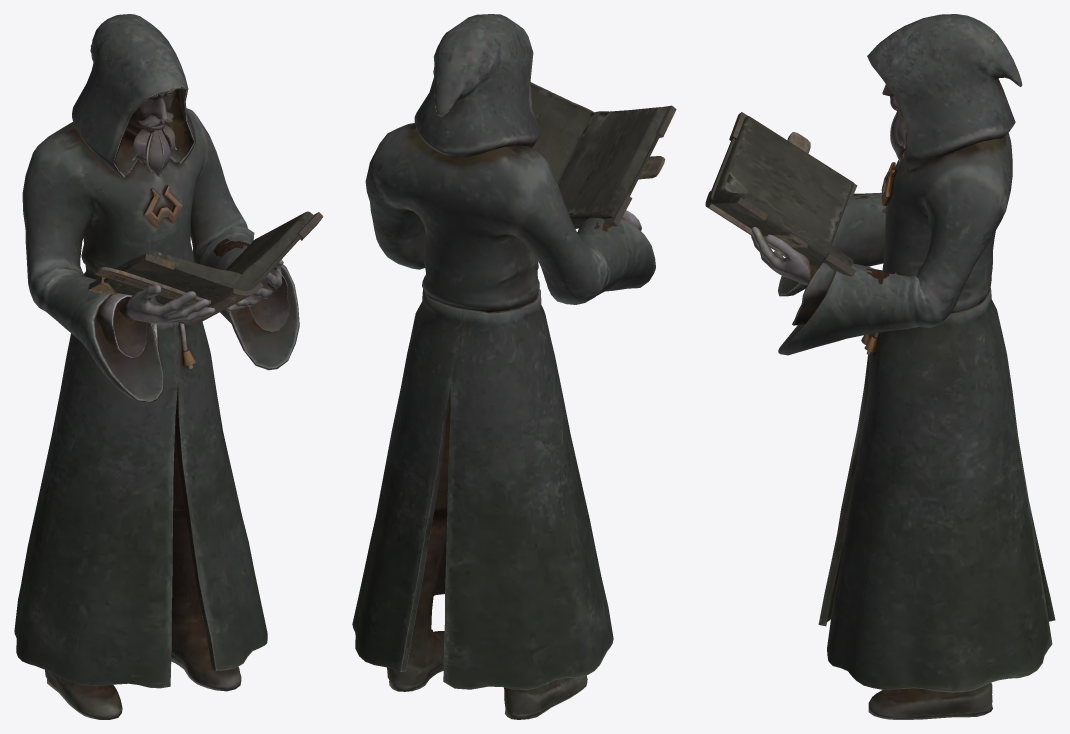
3 renders of one model, left to right at view 1: azimuth 30°, elevation 25°; view 2: azimuth 150°, elevation 25°; view 3: azimuth 270°, elevation 25°, orthographic. The views are drawn at different scales.
Visible parts, largest first — view 1: SM_DR_Statue_ZamorakAcolyte_A_01_LOD0; view 2: SM_DR_Statue_ZamorakAcolyte_A_01_LOD0; view 3: SM_DR_Statue_ZamorakAcolyte_A_01_LOD0.
Boxes of the visible parts, x1,y1,x2,y2 form: SM_DR_Statue_ZamorakAcolyte_A_01_LOD0: (14, 14, 323, 719); SM_DR_Statue_ZamorakAcolyte_A_01_LOD0: (352, 14, 676, 719); SM_DR_Statue_ZamorakAcolyte_A_01_LOD0: (705, 14, 1055, 719).
Bounding box in the file's own units: 1.37 × 3.79 × 1.81.
2 materials, 2 textured.
